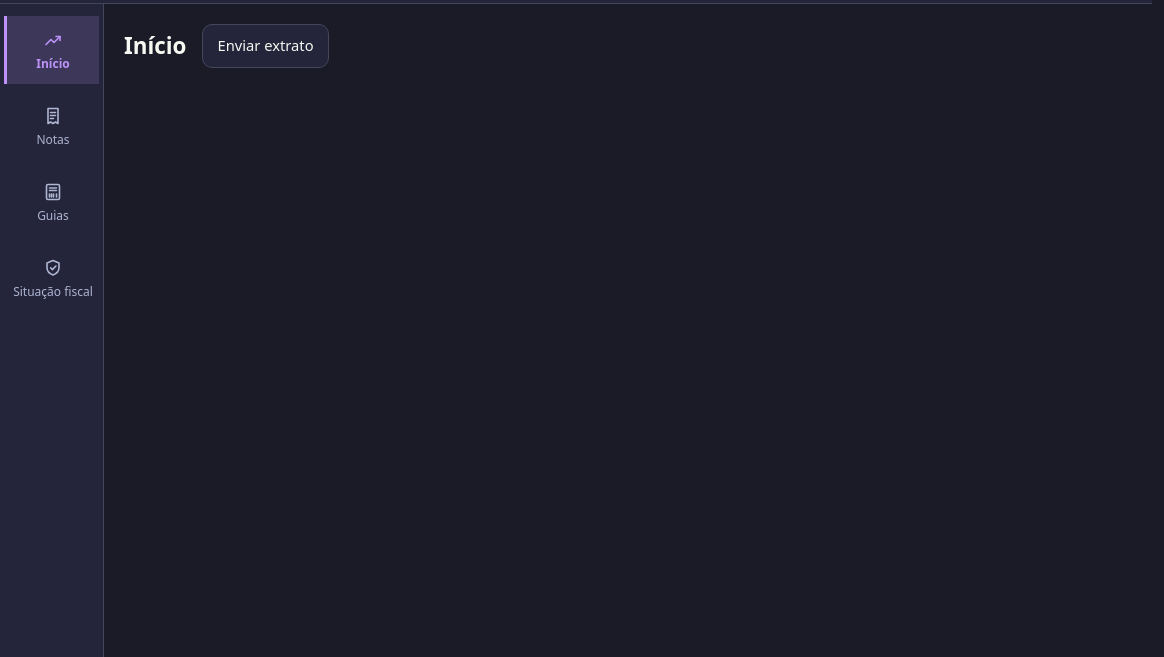
Test: clicar numa nota emitida abre a EMISSÃO pré-preenchida › endereço histórico chega ao formulário completo
Click the link "Notas": (53,126) [36,106,70,148]
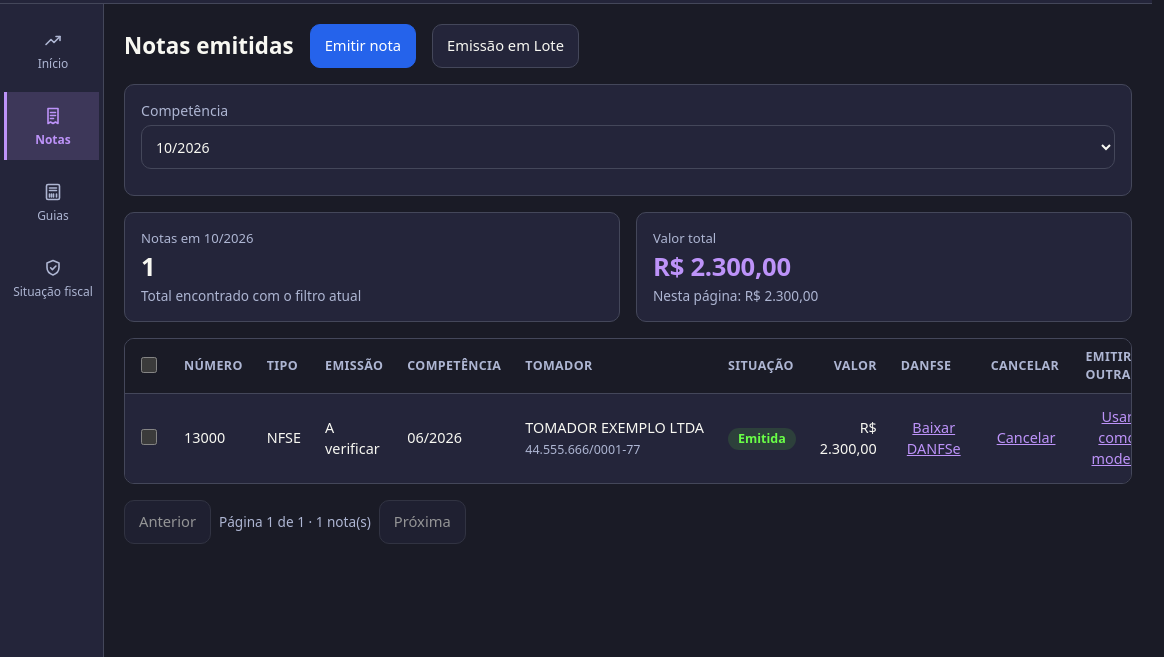
Expected: the heading "Notas emitidas" is shown, [124,31,294,60]
Click the button "Usar como modelo": (1117,439) [1086,403,1149,474]
(page scrolled)
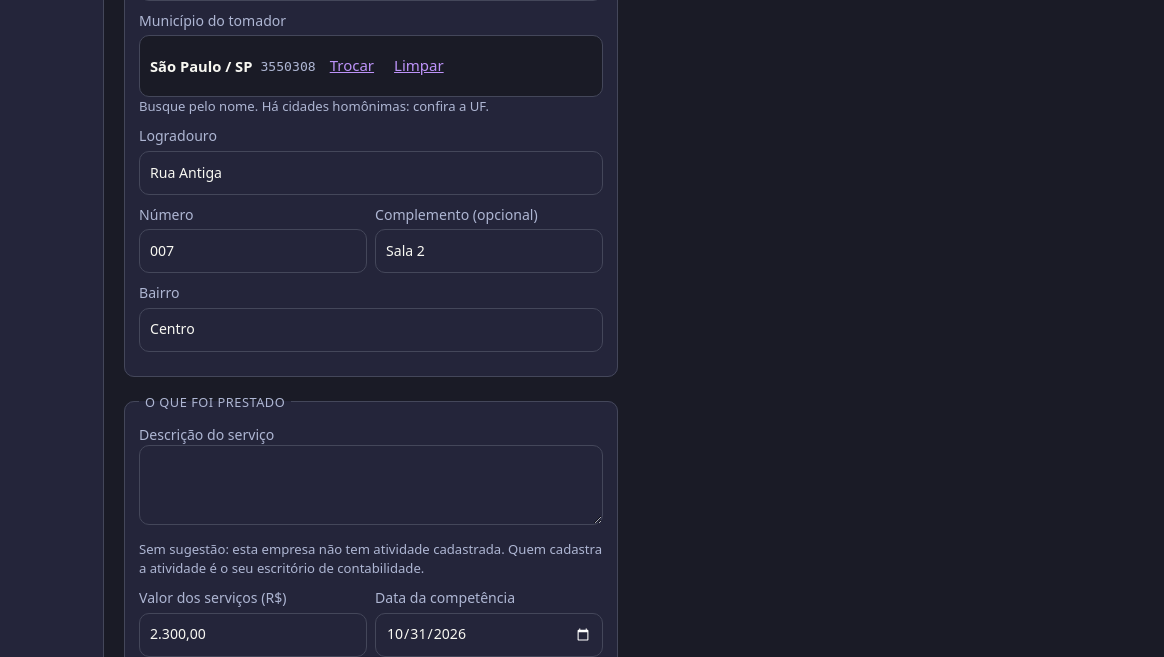
Expected: the field with id "emitir-logradouro" holds "Rua Antiga", [139,151,603,195]
Expected: the field with id "emitir-numero" holds "007", [139,229,367,273]
Expected: the field with id "emitir-bairro" holds "Centro", [139,308,603,352]
